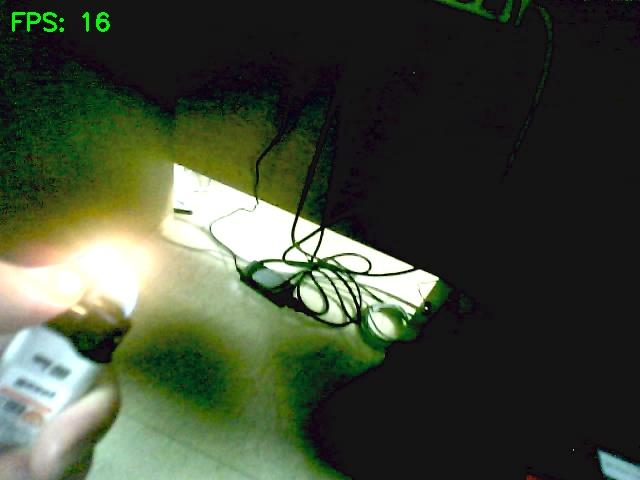fire: (72, 245, 137, 315)
smoke: (70, 236, 147, 282)
